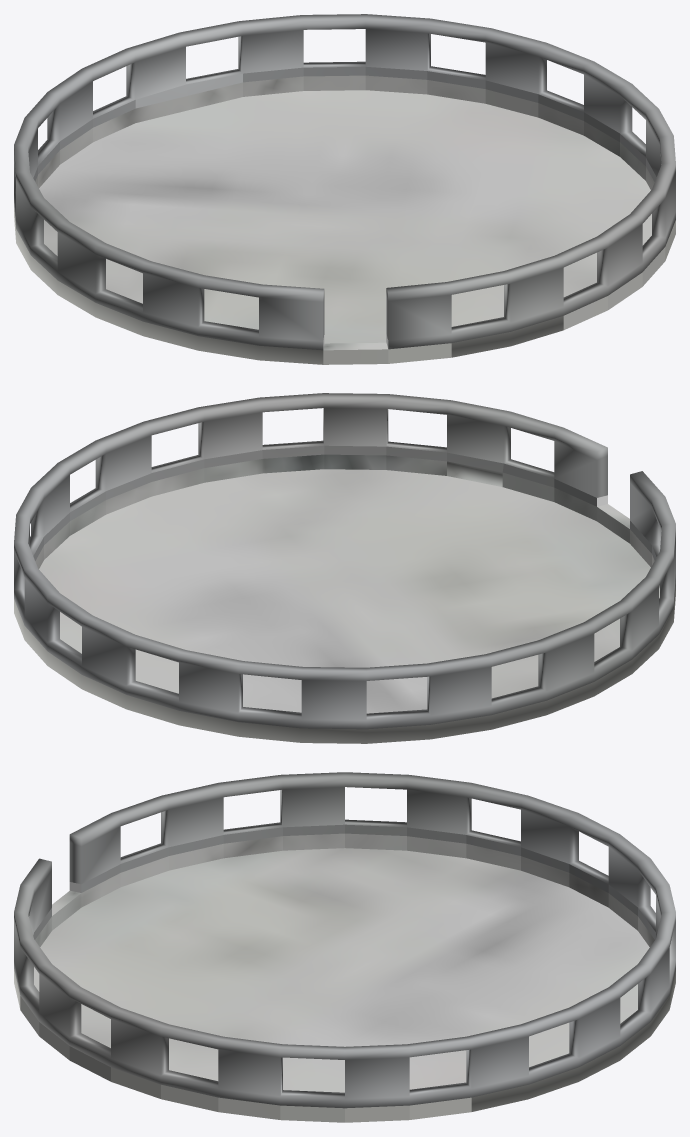
Rendered from balcon0.1.fbx.
3 views of the same model, one above another, from view 1: azimuth 30°, elevation 25°; view 2: azimuth 150°, elevation 25°; view 3: azimuth 270°, elevation 25° (orthographic).
Parts seen in each view (by area): view 1: balcon; view 2: balcon; view 3: balcon.
Boxes of the visible parts, x1=… form: balcon: x1=14, y1=14, x2=675, y2=364; balcon: x1=14, y1=393, x2=675, y2=743; balcon: x1=14, y1=772, x2=675, y2=1122.
Bounding box in the file's own units: 7256 × 857 × 7256.
Materials: 1 (1 with a texture image).
